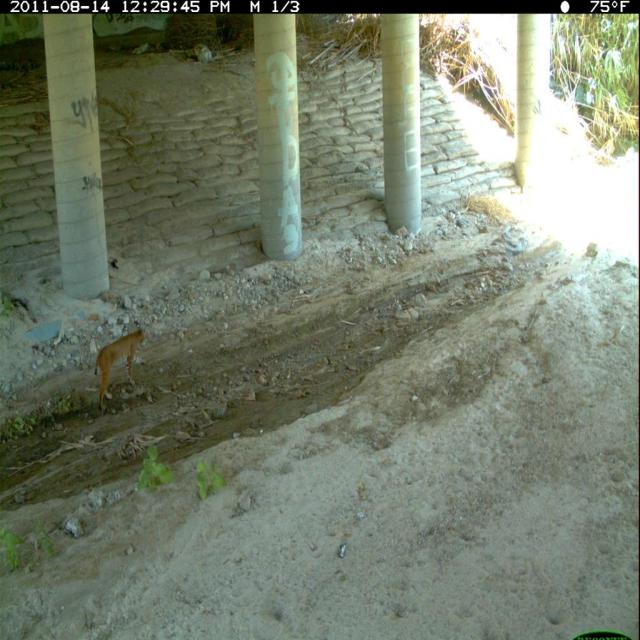bobcat: (93, 322, 150, 417)
